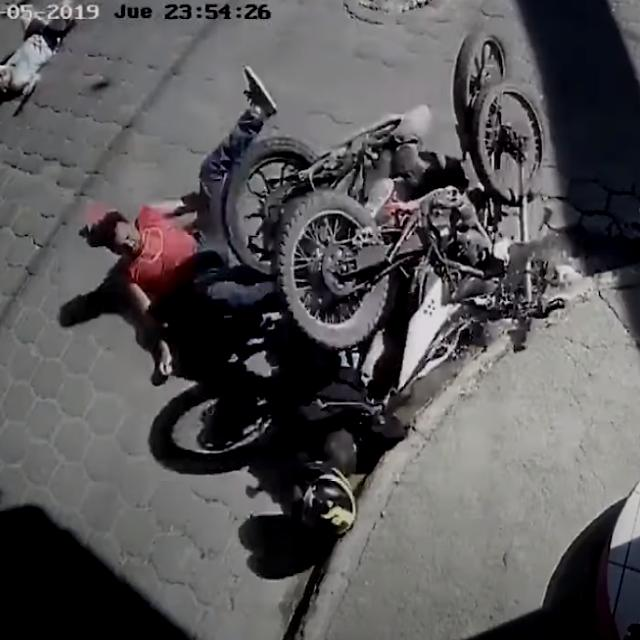accident: (78, 27, 594, 541)
